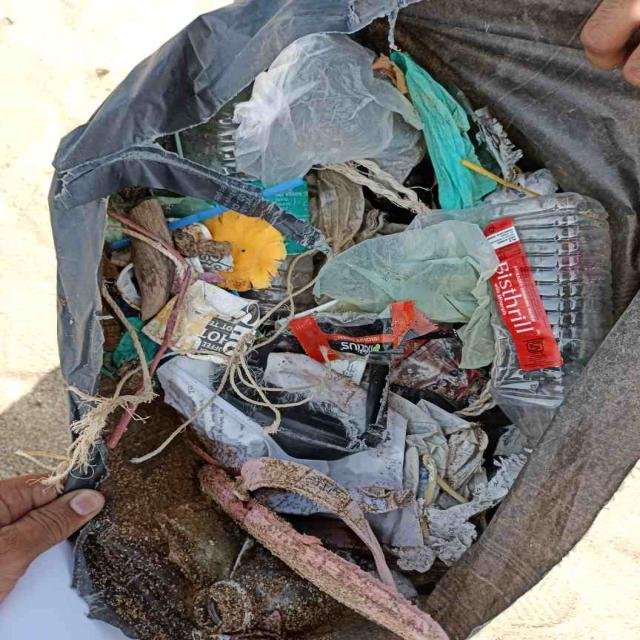dep: (200, 458, 449, 640)
ly_hop_giay: (170, 280, 259, 364), (141, 297, 174, 343)
nhua: (159, 362, 527, 573), (415, 192, 613, 448), (233, 33, 424, 186), (314, 220, 499, 369)
rac_huu_co: (75, 402, 347, 640)
tui_ni_long: (399, 0, 640, 640), (49, 0, 399, 391)
vai_vun: (391, 51, 497, 209)
